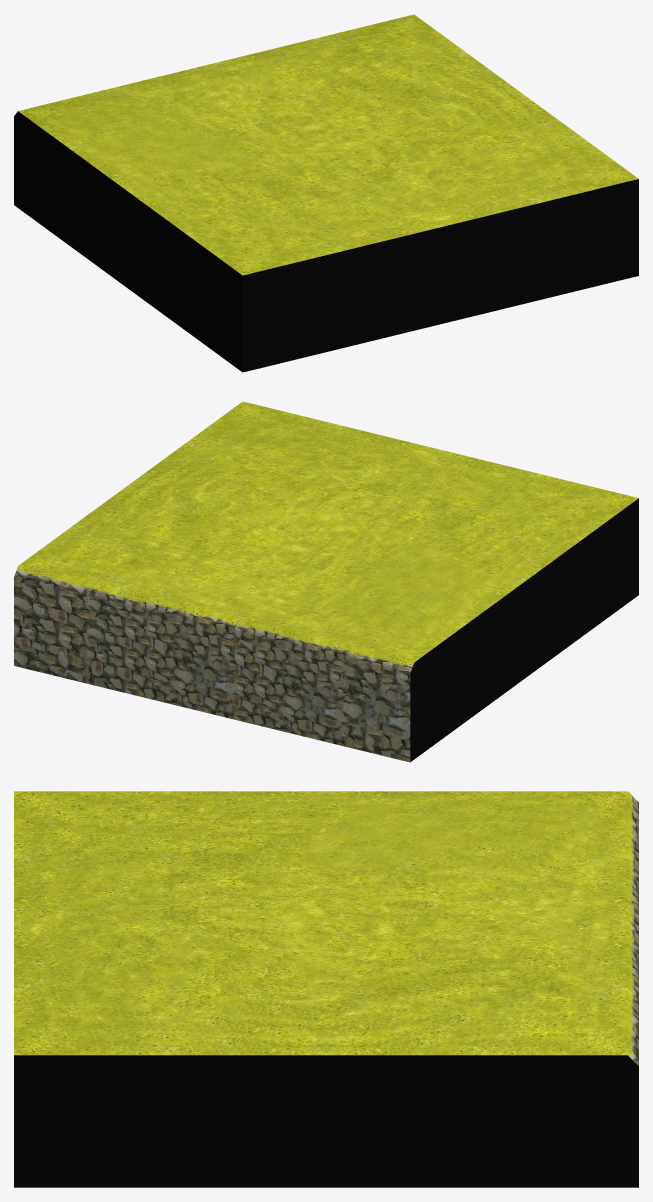
File: Terrace_Extend_01.fbx
3 renders of one model, top to bottom at view 1: azimuth 30°, elevation 25°; view 2: azimuth 150°, elevation 25°; view 3: azimuth 270°, elevation 25°, orthographic. The views are drawn at different scales.
Parts seen in each view (by area): view 1: pCube8; view 2: pCube8; view 3: pCube8.
Part boxes in pixels (x1,y1,x2,y2): pCube8: (14,14,638,372); pCube8: (14,401,638,762); pCube8: (14,791,638,1187).
Bounding box in the file's own units: 14.14 × 3.63 × 14.14.
Materials: 1 (1 with a texture image).
